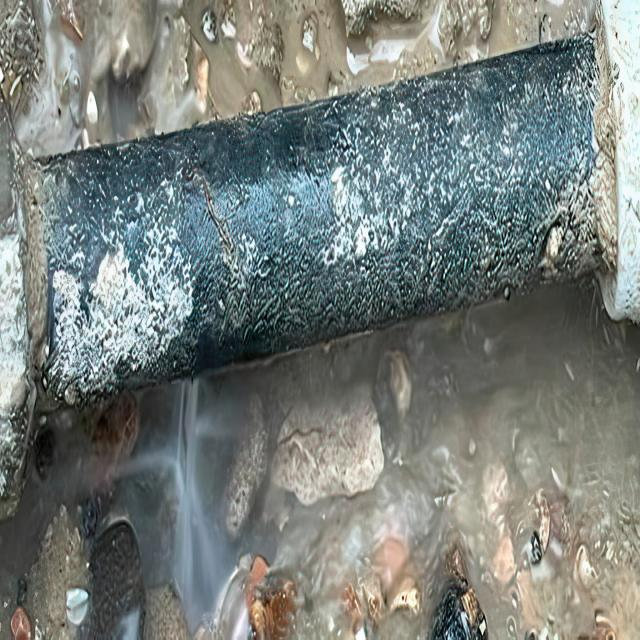leak: (168, 378, 215, 630)
